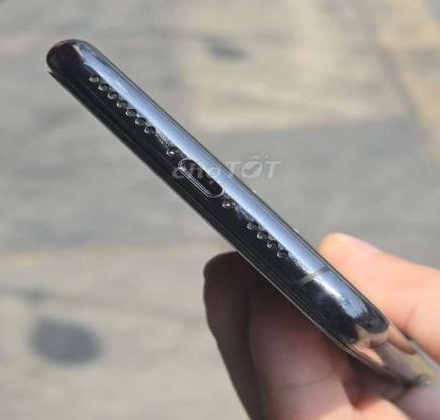scratch: (278, 248, 357, 315), (129, 119, 176, 147), (225, 200, 259, 226)
